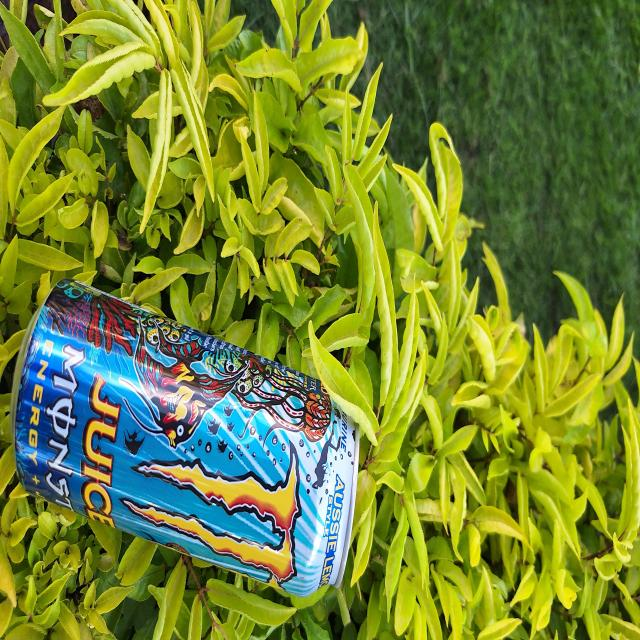Monster Aussie Lemonade: (11, 290, 360, 600)
